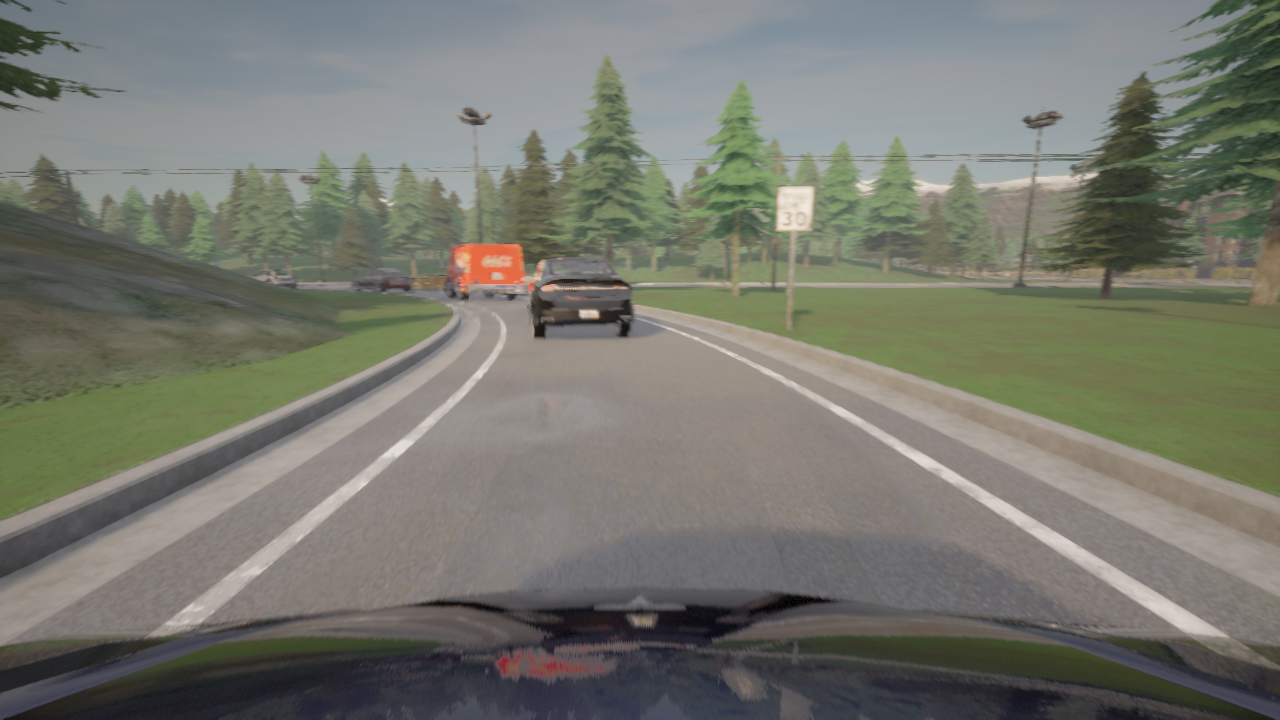cyclist: (0, 588, 1279, 719), (520, 258, 633, 338), (439, 243, 525, 300), (352, 269, 411, 291), (246, 269, 297, 288)
